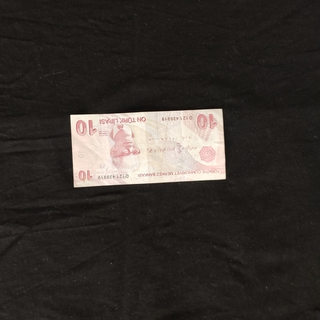10TLBack: (68, 107, 227, 189)
